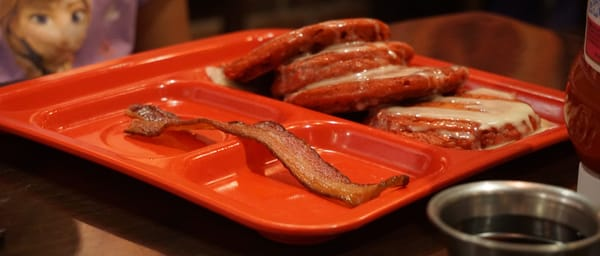pizza: (563, 1, 600, 178)
sushi: (426, 179, 600, 253)
